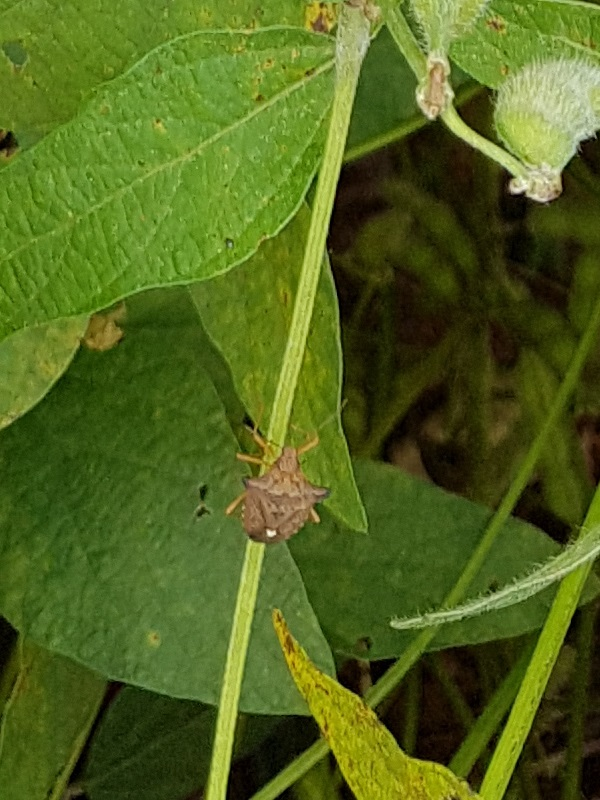Euschistus_heros_adulto: (215, 408, 347, 555)
